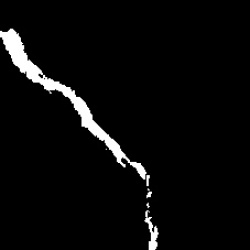crack: (2, 29, 161, 246)
